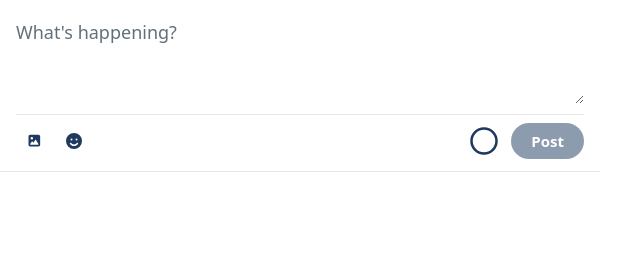
Test: Composer — what Retry may offer (H-1, M-5) › a NETWORK failure offers Retry
Type "Roads are closed." into the text box named "Post text".
click(300, 58); type("Roads are closed.")  # box [16,12,584,104]
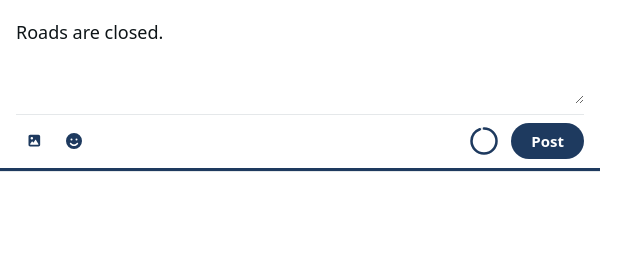
Click the button "Post".
click(548, 141)  # box [511,123,584,159]
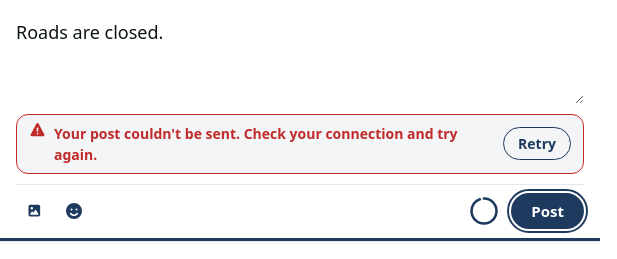
Expected: the button "Retry" is enabled, [503,127,571,160]
